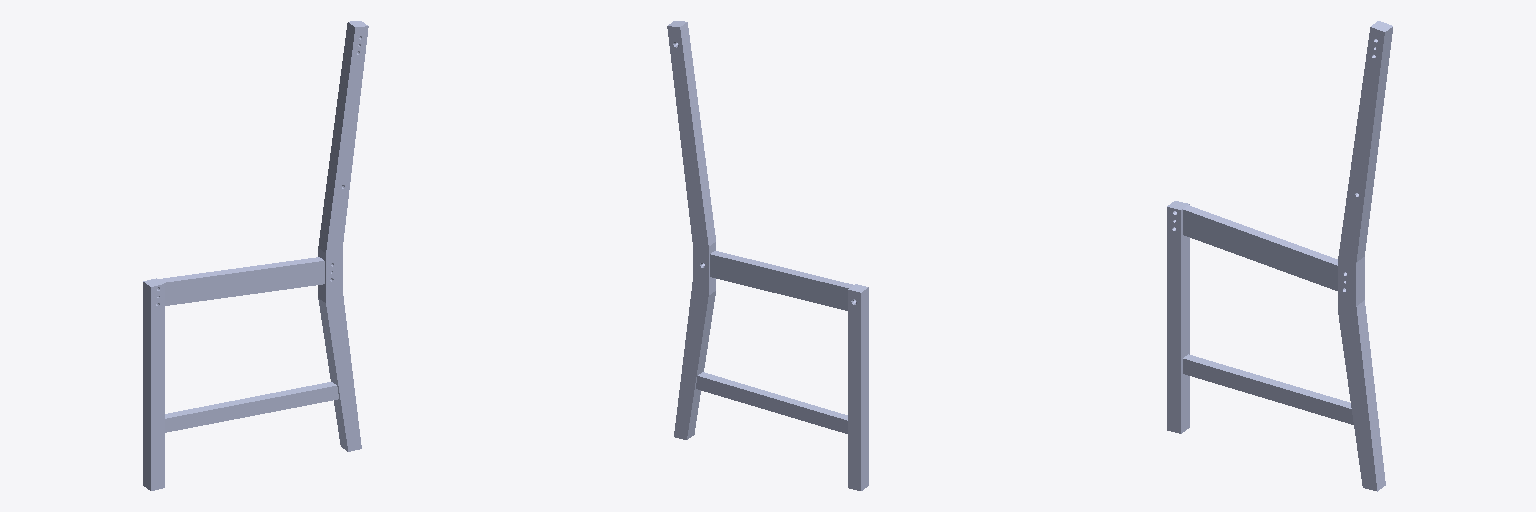
The robot description file, URDF, robot "part5":
<?xml version="1.0" encoding="utf-8"?>
<!-- This URDF was automatically created by SolidWorks to URDF Exporter! Originally created by [author] ([email redacted]) 
     Commit Version: 1.5.1-0-g916b5db  Build Version: 1.5.7152.31018
     For more information, please see http://wiki.ros.org/sw_urdf_exporter -->
<robot name="part5">
  <link name="part5">
    <inertial>
      <origin
        xyz="0.25265 -0.022466 0.35064"
        rpy="0 0 0" />
      <mass
        value="1.8822" />
      <inertia
        ixx="0.092184"
        ixy="0.0046305"
        ixz="-0.028222"
        iyy="0.14409"
        iyz="-0.00238450000000001"
        izz="0.052969" />
    </inertial>
    <visual>
      <origin
        xyz="0 0 0"
        rpy="1.5707963267949 0 0" />
      <geometry>
        <mesh
          filename="package://cai_env/meshes/part5.STL" />
      </geometry>
      <material
        name="">
        <color
          rgba="0.79216 0.81961 0.93333 1" />
        <texture
          filename="package://cai_env/textures/" />
      </material>
    </visual>
    <collision>
      <origin
        xyz="0 0 0"
        rpy="1.5707963267949 0 0" />
      <geometry>
        <mesh
          filename="package://cai_env/meshes/part5.STL" />
      </geometry>
    </collision>
  </link>

  <gazebo reference="part5">
    <material>Gazebo/SkyBlue</material>
  </gazebo>

</robot>

--- Facts derived from the render (not from the file) ---
Views: 3 orthographic renders of the robot side by side, from view 1: azimuth 30°, elevation 25°; view 2: azimuth 150°, elevation 25°; view 3: azimuth 330°, elevation 25°.
Model part5 with 1 links and 0 joints (none), rooted at part5, posed every joint at zero.
Visible links, largest first — view 1: part5; view 2: part5; view 3: part5.
Link boxes in pixels (x1=…): part5: x1=143, y1=21, x2=368, y2=490; part5: x1=667, y1=21, x2=868, y2=490; part5: x1=1167, y1=21, x2=1392, y2=491.
Size in the robot's own frame: 0.4647 by 0.065 by 0.9006 metres.
1 mesh visuals loaded from 1 distinct referenced files (1 binary STL).
